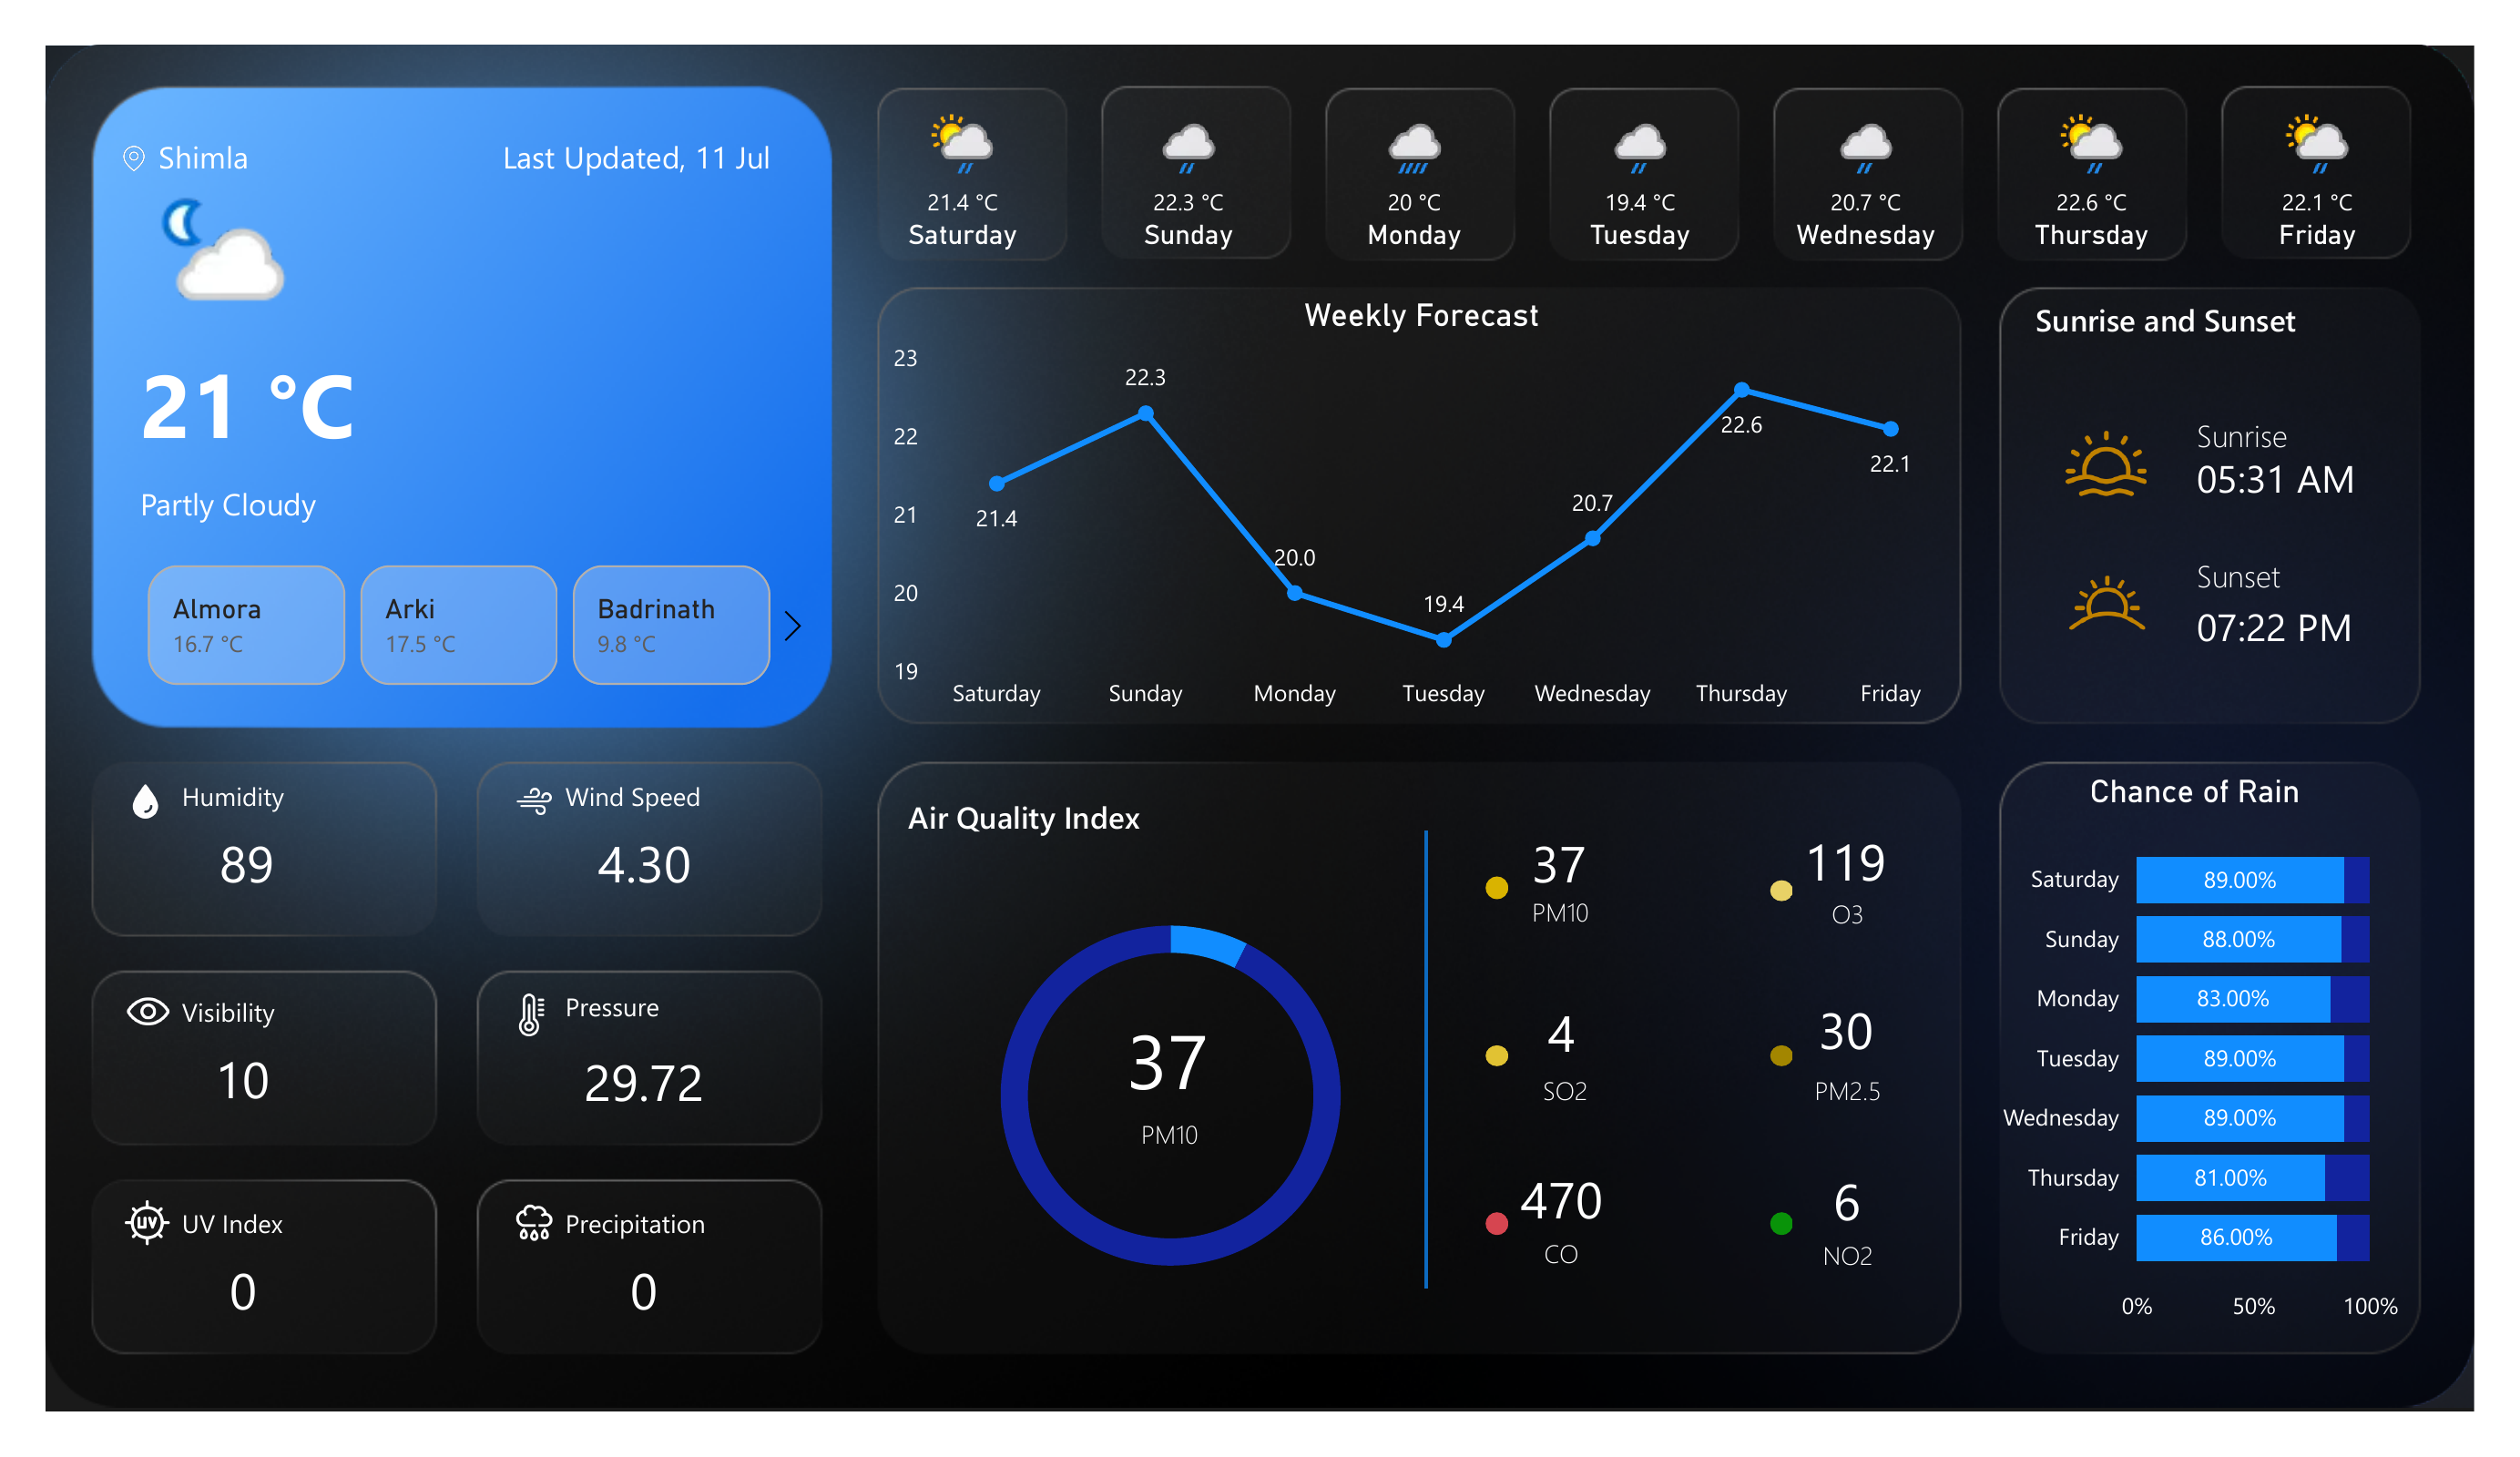

Layout of this report page (visuals, bound fields, positions):
{"tool":"powerbi","page":{"name":"Page 1","canvas":[1280,720],"ordinal":0},"visuals":[{"type":"donutChart","fields":{"Y":["Sum(Current.current.air_quality.pm10)","_Measures.Left_Value"]},"box":[475.6,387.2,234.9,332.6],"z":0},{"type":"advancedSlicerVisual","fields":{"Values":["Locations.location.name"]},"box":[29.1,268.6,380.2,73.3],"z":1000},{"type":"shape","box":[50,155.8,158.1,64],"z":2000},{"type":"shape","box":[50,219.8,277.9,43],"z":3000},{"type":"shape","box":[60.5,37.2,147.7,43],"z":4000},{"type":"image","box":[29.1,47.7,34.9,23.3],"z":5000},{"type":"shape","box":[240.7,37.2,158.1,43],"z":6000},{"type":"cardVisual","fields":{"Data":["Min(Current.current.condition.icon)"]},"box":[29.1,59.3,120.9,115.1],"z":7000},{"type":"image","box":[34.9,490.7,37.2,36],"z":8000},{"type":"image","box":[238.4,495.4,36,31.4],"z":9000},{"type":"image","box":[38.4,383.7,29.1,29.1],"z":10000},{"type":"image","box":[36,601.2,34.9,38.4],"z":11000},{"type":"image","box":[240.7,383.7,33.7,29.1],"z":12000},{"type":"image","box":[240.7,601.2,33.7,38.4],"z":13000},{"type":"shape","box":[72.1,383.7,65.1,22.1],"z":14000},{"type":"shape","box":[72.1,497.7,65.1,22.1],"z":15000},{"type":"shape","box":[72.1,609.3,65.1,22.1],"z":16000},{"type":"shape","box":[274.4,383.7,81.4,22.1],"z":17000},{"type":"shape","box":[274.4,495.4,65.1,22.1],"z":18000},{"type":"shape","box":[274.4,609.3,81.4,22.1],"z":19000},{"type":"card","fields":{"Values":["Sum(Current.current.humidity)"]},"box":[75.6,405.8,61.6,52.3],"z":20000},{"type":"card","fields":{"Values":["Sum(Current.current.wind_kph)"]},"box":[284.9,405.8,61.6,52.3],"z":21000},{"type":"card","fields":{"Values":["Sum(Current.current.vis_km)"]},"box":[73.3,519.8,61.6,52.3],"z":22000},{"type":"card","fields":{"Values":["Sum(Current.current.pressure_in)"]},"box":[276.2,521.2,79.3,51.6],"z":23000},{"type":"card","fields":{"Values":["Sum(Current.current.uv)"]},"box":[73.3,630.5,62.5,52.8],"z":24000},{"type":"card","fields":{"Values":["Sum(Current.current.precip_mm)"]},"box":[284.6,630.5,61.2,52.8],"z":25000},{"type":"advancedSlicerVisual","fields":{"Values":["Forecast_Day.Day_Name"]},"box":[422.6,25,838.9,92.5],"z":26000},{"type":"lineChart","title":"Weekly Forecast","fields":{"Y":["Sum(Forecast_Day.forecast.forecastday.day.avgtemp_c)"],"Category":["Forecast_Day.Day_Name"]},"box":[441.7,132.3,566.9,227.9],"z":27000},{"type":"shape","box":[1048.8,132.3,147.6,23.6],"z":28000},{"type":"shape","box":[1133.8,207.9,93.3,39],"z":29000},{"type":"shape","box":[1133.8,285.8,93.3,39],"z":30000},{"type":"shape","box":[1133.8,187.8,85,34.2],"z":31000},{"type":"shape","box":[1133.8,262.2,85,34.2],"z":32000},{"type":"image","box":[1059.4,193.7,53.1,52],"z":33000},{"type":"image","box":[1048.8,262.2,74.4,62.6],"z":34000},{"type":"hundredPercentStackedBarChart","title":"Chance of Rain","fields":{"Y":["Sum(Forecast_Day.forecast.forecastday.day.daily_chance_of_rain)","Current.Left_Value_Rain"],"Category":["Forecast_Day.Day_Name"]},"box":[1021.5,383.2,224,299.8],"z":35000},{"type":"shape","box":[455.4,394.4,148.1,23.6],"z":36000},{"type":"card","fields":{"Values":["Sum(Current.current.air_quality.pm10)"]},"box":[755.8,414,83.7,36],"z":37000},{"type":"card","fields":{"Values":["Sum(Current.current.air_quality.o3)"]},"box":[912,411.8,73.4,38.6],"z":38000},{"type":"card","fields":{"Values":["Sum(Current.current.air_quality.so2)"]},"box":[762.7,501.4,73.4,41.1],"z":39000},{"type":"card","fields":{"Values":["Sum(Current.current.air_quality.pm2_5)"]},"box":[909.5,497.7,79.6,44.8],"z":40000},{"type":"card","fields":{"Values":["Sum(Current.current.air_quality.co)"]},"box":[750.2,587.2,98.3,43.5],"z":41000},{"type":"card","fields":{"Values":["Sum(Current.current.air_quality.no2)"]},"box":[914.5,583.5,70.9,52.3],"z":42000},{"type":"shape","box":[755.8,439.5,84.9,33.7],"z":43000},{"type":"shape","box":[907,440.4,85.8,33.6],"z":44000},{"type":"shape","box":[757.7,533.7,85.8,33.6],"z":45000},{"type":"shape","box":[907,533.7,85.8,33.6],"z":46000},{"type":"shape","box":[755.8,619.8,86,33.7],"z":47000},{"type":"shape","box":[907,620.8,85.8,33.6],"z":48000},{"type":"shape","box":[759.3,438.4,11.6,11.6],"z":49000},{"type":"shape","box":[653.5,414,148.8,240.7],"z":50000},{"type":"shape","box":[759.3,526.7,11.6,11.6],"z":51000},{"type":"shape","box":[759.3,615.1,11.6,11.6],"z":52000},{"type":"shape","box":[909.3,439.5,11.6,11.6],"z":53000},{"type":"shape","box":[909.3,526.7,11.6,11.6],"z":54000},{"type":"shape","box":[909.3,615.1,11.6,11.6],"z":55000},{"type":"card","fields":{"Values":["Sum(Current.current.air_quality.pm10)"]},"box":[548.8,512.8,84.9,43],"z":56000},{"type":"shape","box":[550,555.8,84.9,33.7],"z":57000}]}

Visuals, with their boxes on the page's 1280x720 design canvas (x1, y1, x2, y2). These are canvas units, not pixel positions in the 2520x1457 screenshot, which may show the page scaled, cropped or inside an application window:
donutChart - Sum(Current.current.air_quality.pm10) x _Measures.Left_Value: 476:387:710:720
advancedSlicerVisual - Locations.location.name: 29:269:409:342
shape: 50:156:208:220
shape: 50:220:328:263
shape: 60:37:208:80
image: 29:48:64:71
shape: 241:37:399:80
cardVisual - Min(Current.current.condition.icon): 29:59:150:174
image: 35:491:72:527
image: 238:495:274:527
image: 38:384:68:413
image: 36:601:71:640
image: 241:384:274:413
image: 241:601:274:640
shape: 72:384:137:406
shape: 72:498:137:520
shape: 72:609:137:631
shape: 274:384:356:406
shape: 274:495:340:518
shape: 274:609:356:631
card - Sum(Current.current.humidity): 76:406:137:458
card - Sum(Current.current.wind_kph): 285:406:346:458
card - Sum(Current.current.vis_km): 73:520:135:572
card - Sum(Current.current.pressure_in): 276:521:356:573
card - Sum(Current.current.uv): 73:630:136:683
card - Sum(Current.current.precip_mm): 285:630:346:683
advancedSlicerVisual - Forecast_Day.Day_Name: 423:25:1262:118
"Weekly Forecast" lineChart: 442:132:1009:360
shape: 1049:132:1196:156
shape: 1134:208:1227:247
shape: 1134:286:1227:325
shape: 1134:188:1219:222
shape: 1134:262:1219:296
image: 1059:194:1112:246
image: 1049:262:1123:325
"Chance of Rain" hundredPercentStackedBarChart: 1022:383:1246:683
shape: 455:394:604:418
card - Sum(Current.current.air_quality.pm10): 756:414:840:450
card - Sum(Current.current.air_quality.o3): 912:412:985:450
card - Sum(Current.current.air_quality.so2): 763:501:836:542
card - Sum(Current.current.air_quality.pm2_5): 910:498:989:542
card - Sum(Current.current.air_quality.co): 750:587:848:631
card - Sum(Current.current.air_quality.no2): 914:584:985:636
shape: 756:440:841:473
shape: 907:440:993:474
shape: 758:534:844:567
shape: 907:534:993:567
shape: 756:620:842:654
shape: 907:621:993:654
shape: 759:438:771:450
shape: 654:414:802:655
shape: 759:527:771:538
shape: 759:615:771:627
shape: 909:440:921:451
shape: 909:527:921:538
shape: 909:615:921:627
card - Sum(Current.current.air_quality.pm10): 549:513:634:556
shape: 550:556:635:590
